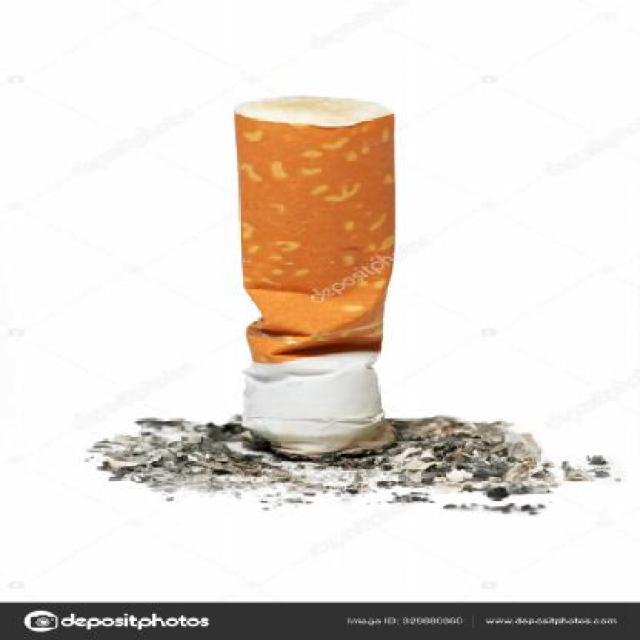cigarette: (208, 92, 448, 471)
